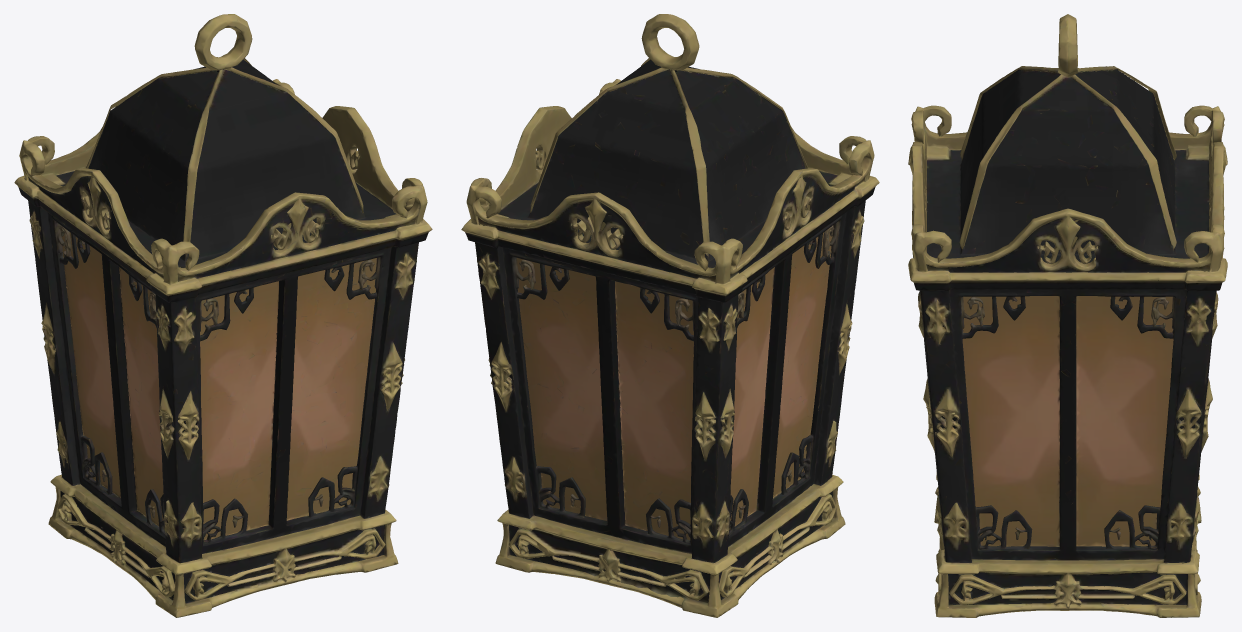
File: lantern-hero.glb
3 views of the same model, side by side, from view 1: azimuth 30°, elevation 25°; view 2: azimuth 150°, elevation 25°; view 3: azimuth 270°, elevation 25° (orthographic). The views are drawn at different scales.
Parts seen in each view (by area): view 1: world; view 2: world; view 3: world.
Part boxes in pixels (bbox=[...]): world: bbox=[14, 14, 432, 617]; world: bbox=[461, 14, 879, 617]; world: bbox=[908, 14, 1227, 617].
Size of the model in its own units: 0.5327 by 1 by 0.5322.
1 material, 1 textured.
